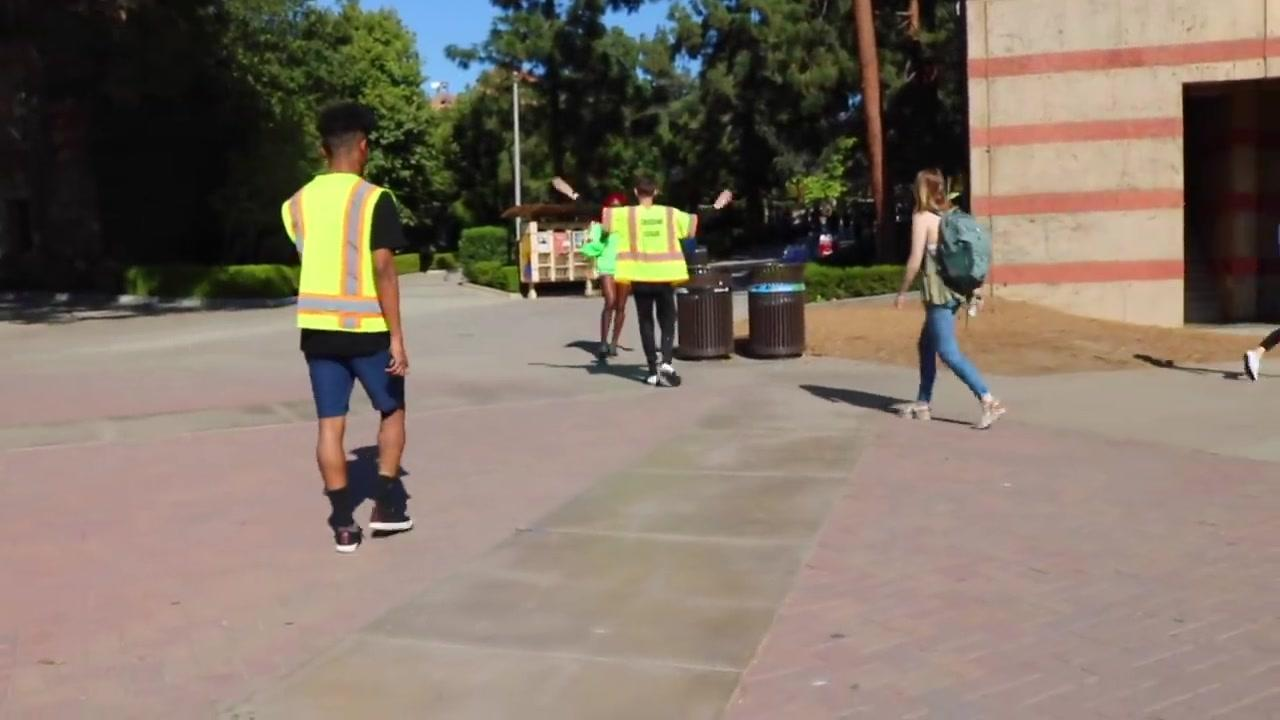Glass: (283, 168, 390, 339), (607, 200, 706, 295)
